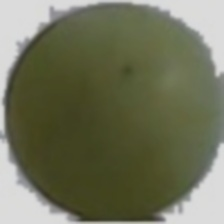grapes: (48, 37, 211, 196)
